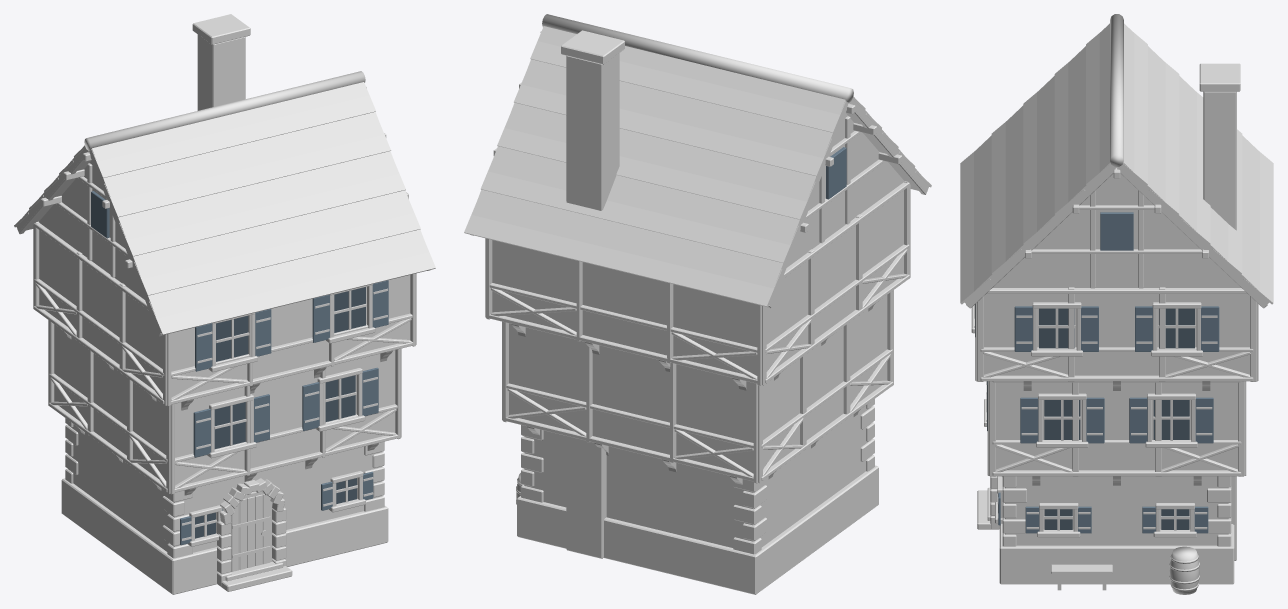
File: col_05_haute_trois_niveaux.fbx
3 views of the same model, side by side, from view 1: azimuth 30°, elevation 25°; view 2: azimuth 150°, elevation 25°; view 3: azimuth 270°, elevation 25° (orthographic). The views are drawn at different scales.
Parts seen in each view (by area): view 1: col_05_haute_trois_niveaux_LOD0; view 2: col_05_haute_trois_niveaux_LOD0; view 3: col_05_haute_trois_niveaux_LOD0.
Boxes of the visible parts, x1=… form: col_05_haute_trois_niveaux_LOD0: x1=14, y1=14, x2=435, y2=594; col_05_haute_trois_niveaux_LOD0: x1=464, y1=14, x2=931, y2=594; col_05_haute_trois_niveaux_LOD0: x1=960, y1=14, x2=1273, y2=594.
Size of what is drawn, in the model's own units: 7.32 by 11.33 by 6.7.
